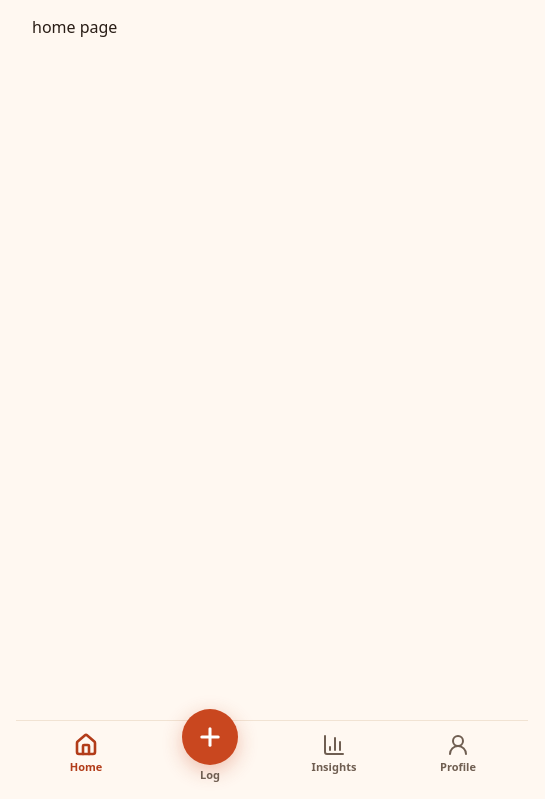
AppShell › keeps working when scrollTo returns a Promise (newer browsers)
Check: the text "home page" is shown, box [32,16,117,38]
What coordinates should you click on to do the following:
click the link "Log"
I would click on:
 (210, 745)
Its box is [182,708,238,782].
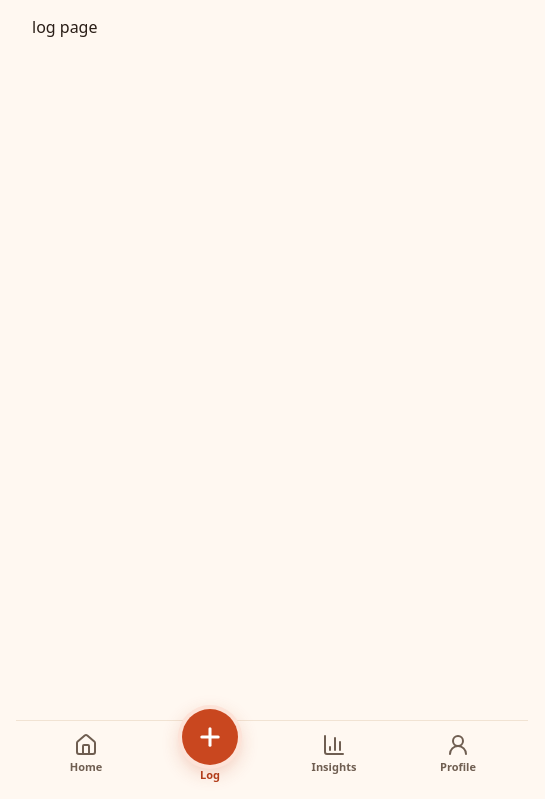
Check: the link "Home" is shown, box [70,732,102,774]
Check: the text "log page" is shown, box [32,16,98,38]
